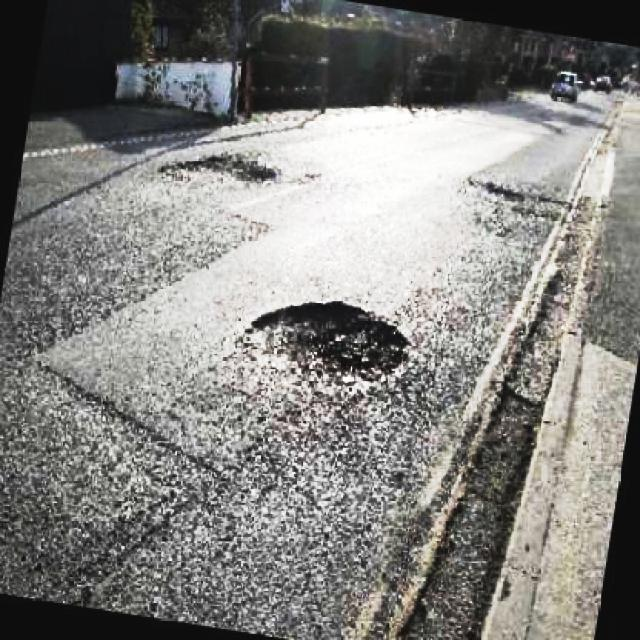pothole: (234, 294, 420, 395), (161, 150, 277, 188)
